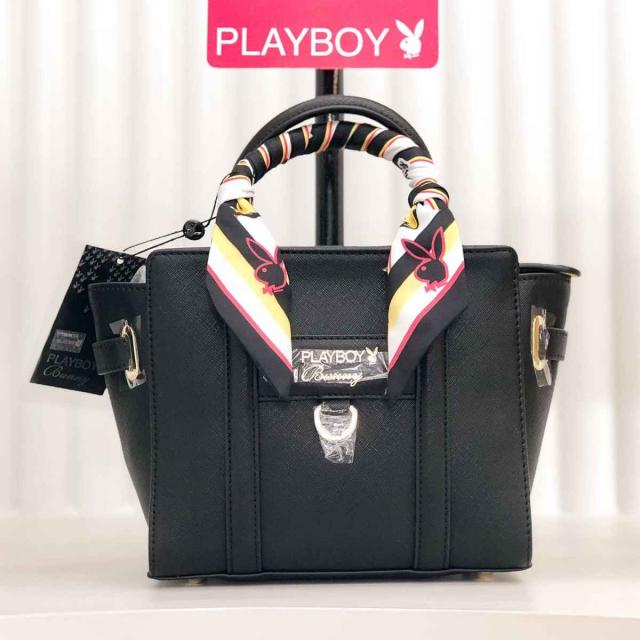Handbag: (43, 200, 584, 597)
